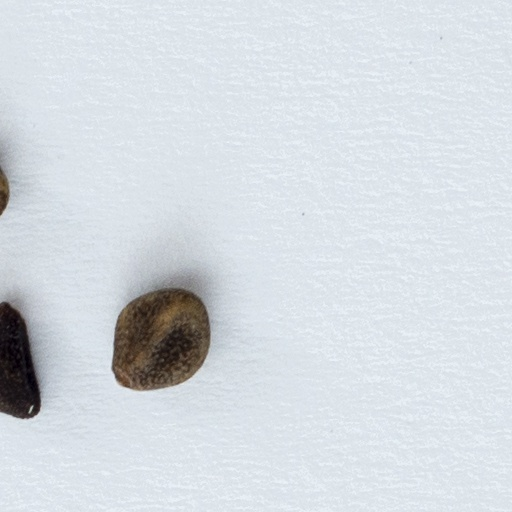Convolvulus-poly: (0, 296, 296, 419), (107, 281, 281, 392), (0, 159, 159, 221)
